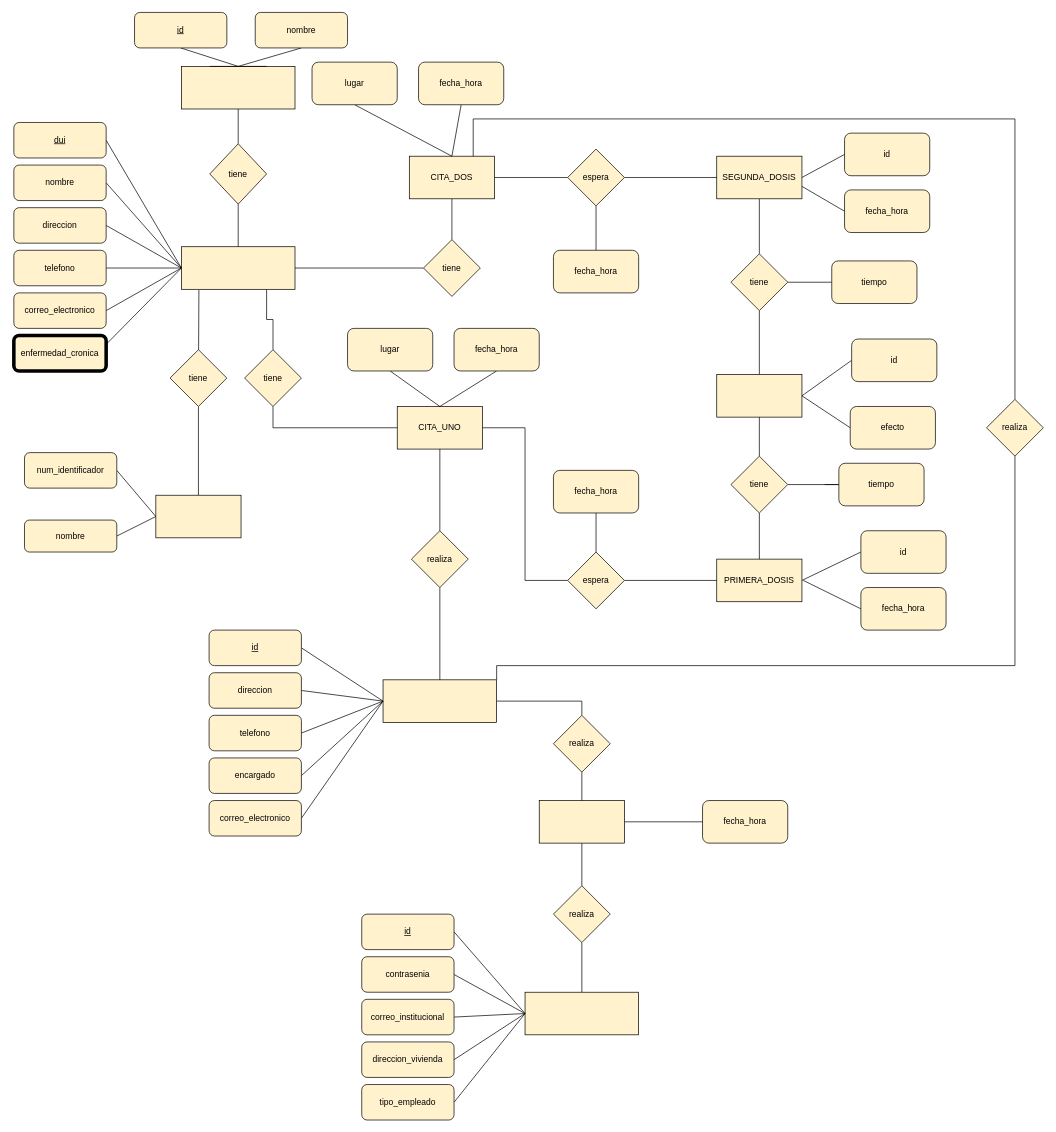
Some shapes in this 1056 by 1132 pixel diagram are drawn without their labels. The centre of each missing label's shape, as x and y in pixels:
"CABINA" belongs at (x=439, y=700).
"CIUDADANO" belongs at (x=238, y=267).
"efecto_secundario" belongs at (x=759, y=395).
"GESTOR" belongs at (x=581, y=1013).
"GRUPO_PRIORIDAD" belongs at (x=238, y=87).
"INSTITUCIÓN" belongs at (x=198, y=516).
"REGISTRO_INICIO" belongs at (x=581, y=821).
